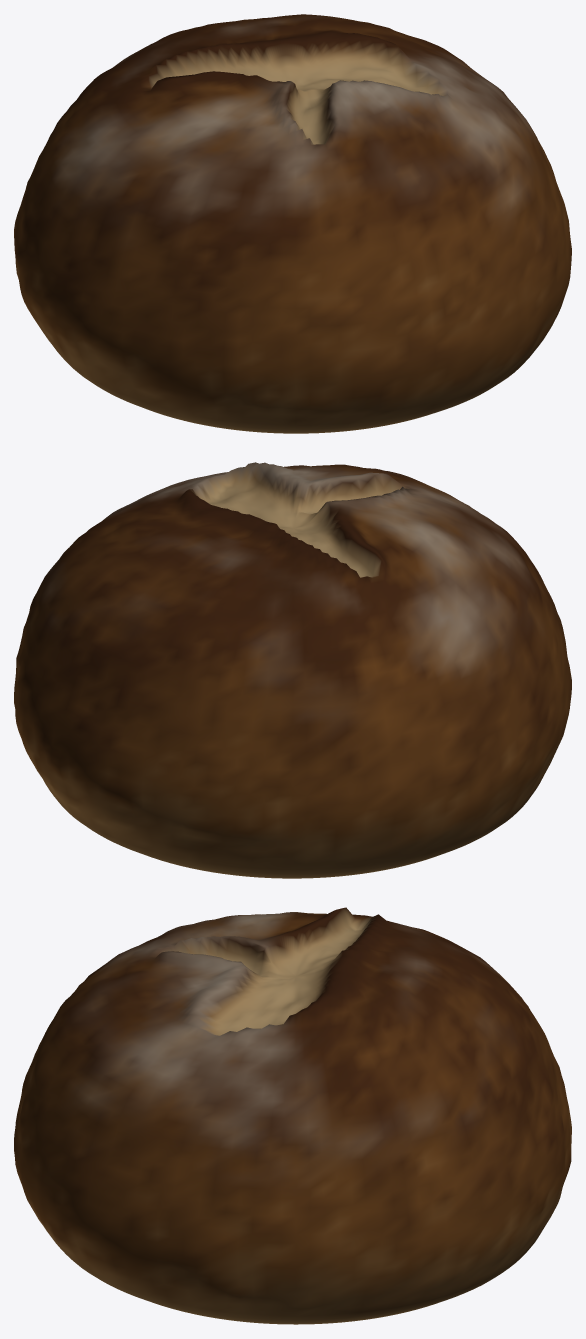
Rendered from roggenweck.glb.
3 views of the same model, one above another, from view 1: azimuth 30°, elevation 25°; view 2: azimuth 150°, elevation 25°; view 3: azimuth 270°, elevation 25° (orthographic).
Visible parts, largest first — view 1: roggenweck; view 2: roggenweck; view 3: roggenweck.
Boxes of the visible parts, x1=… form: roggenweck: x1=14, y1=14, x2=571, y2=433; roggenweck: x1=14, y1=462, x2=571, y2=878; roggenweck: x1=14, y1=907, x2=571, y2=1324.
Bounding box in the file's own units: 0.1 × 0.055 × 0.1.
